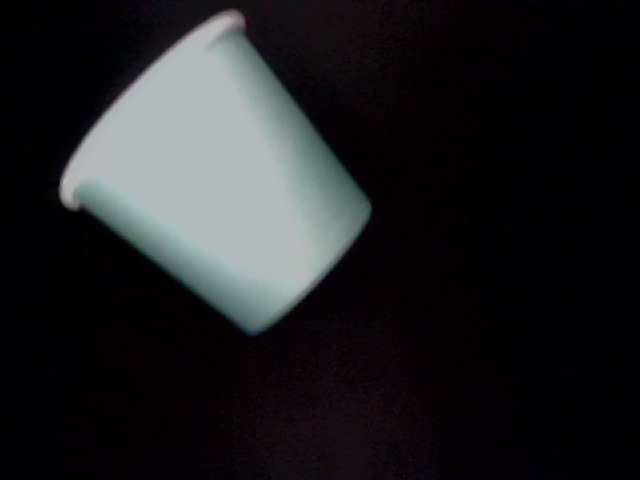CYLJ: (152, 93, 267, 198)
